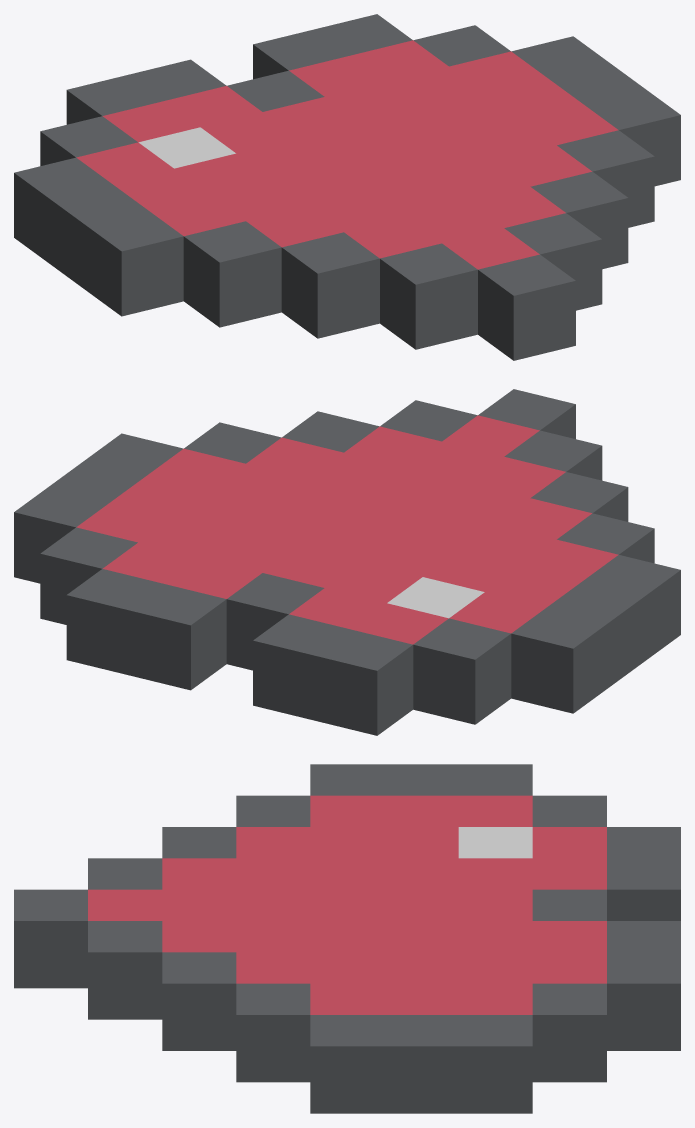
Rendered from Heart.glb.
The picture shows the model from 3 angles, top to bottom: view 1: azimuth 30°, elevation 25°; view 2: azimuth 150°, elevation 25°; view 3: azimuth 270°, elevation 25°; orthographic projection. The views are drawn at different scales.
Parts seen in each view (by area): view 1: Mesh_Mesh_head_geo.001_lambert2SG.001; view 2: Mesh_Mesh_head_geo.001_lambert2SG.001; view 3: Mesh_Mesh_head_geo.001_lambert2SG.001.
Boxes of the visible parts, left/top/right/bottom form: Mesh_Mesh_head_geo.001_lambert2SG.001: left=14, top=14, right=680, bottom=360; Mesh_Mesh_head_geo.001_lambert2SG.001: left=14, top=389, right=680, bottom=735; Mesh_Mesh_head_geo.001_lambert2SG.001: left=14, top=764, right=680, bottom=1113.
Size of the model in its own units: 0.09 by 0.01 by 0.09.
